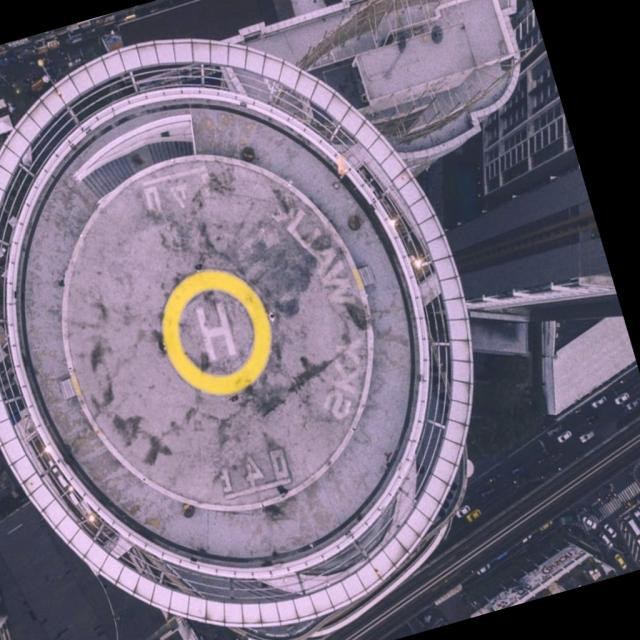helipad: (159, 266, 274, 396)
